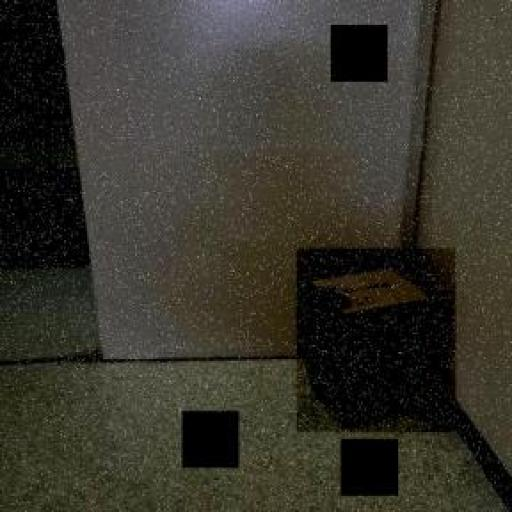box: (296, 248, 456, 433)
